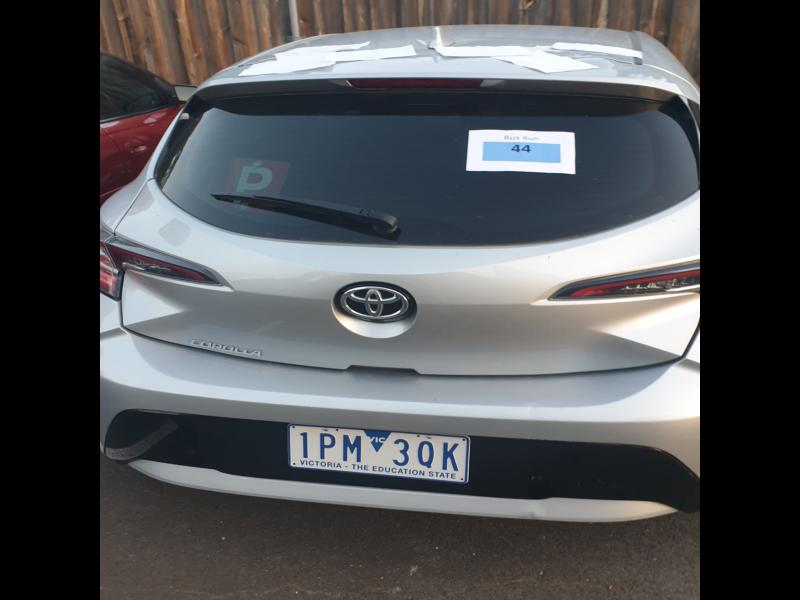BusRun: (481, 141, 563, 165)
PlateNo: (287, 423, 473, 479)
